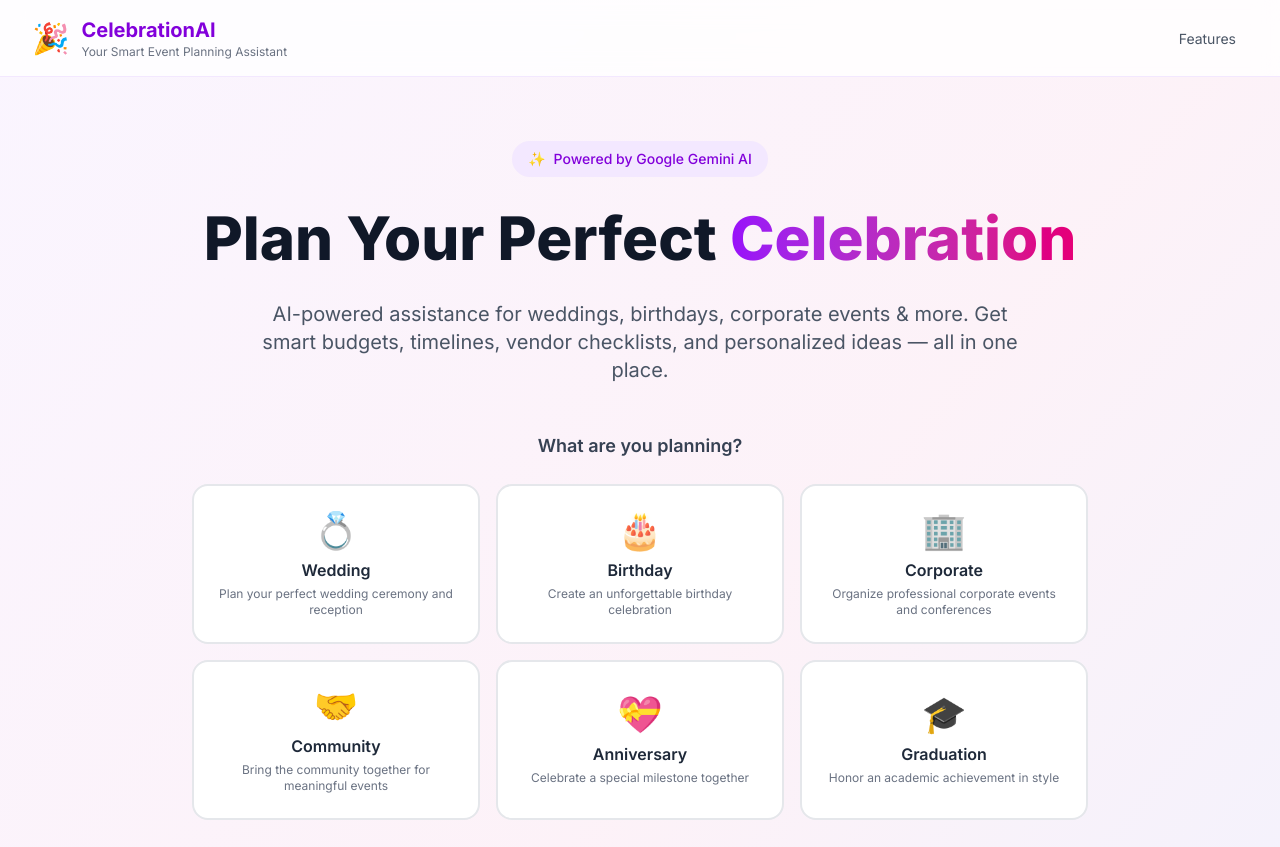
Test: HomePage landing page › disables Get Started button until an event type is selected
The width and height of the screenshot is (1280, 847).
# Select Wedding
Click the radio button labelled "💍 Wedding Plan your perfect wedding ceremony and reception". click: (336, 564)
box: [192,484,480,644]
(page scrolled)
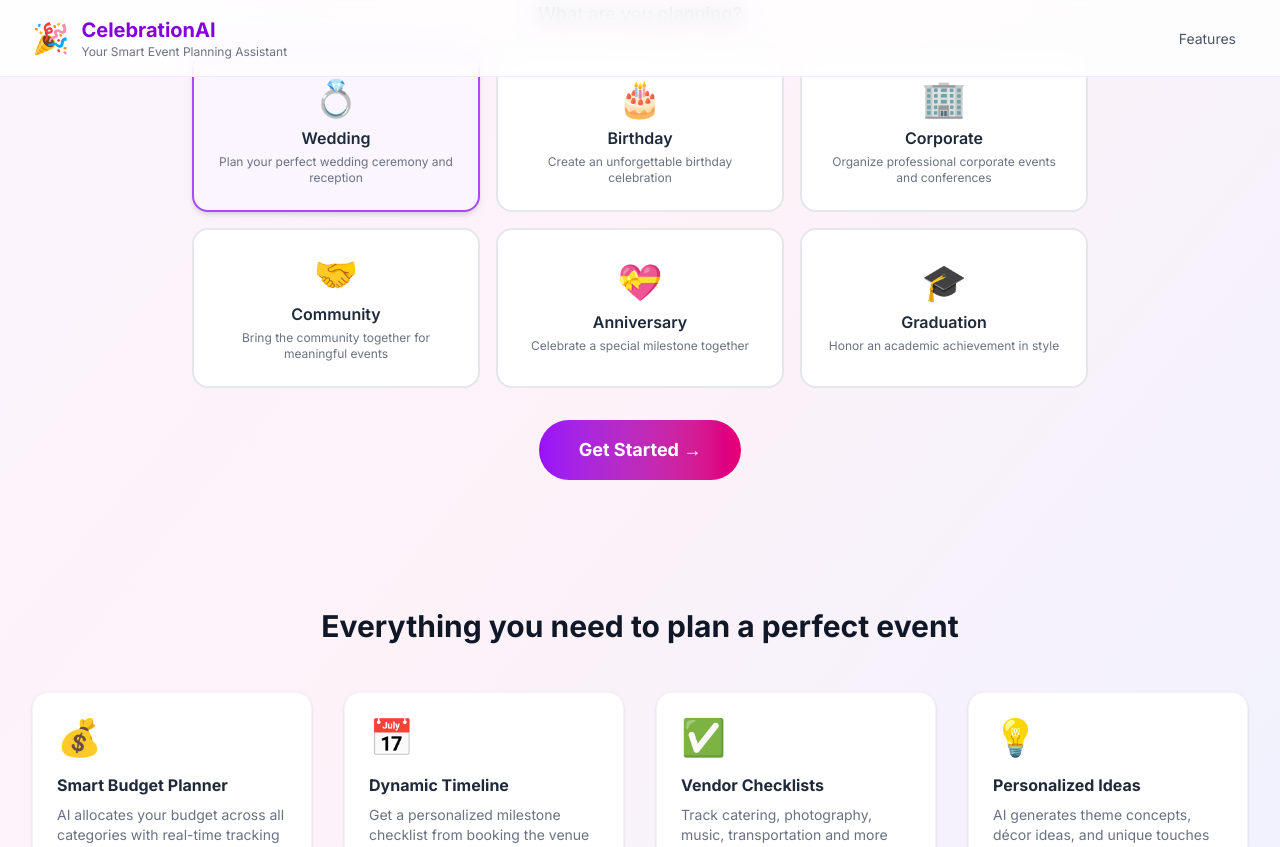
Check: the button "Get Started →" is enabled, box [539,420,741,480]
